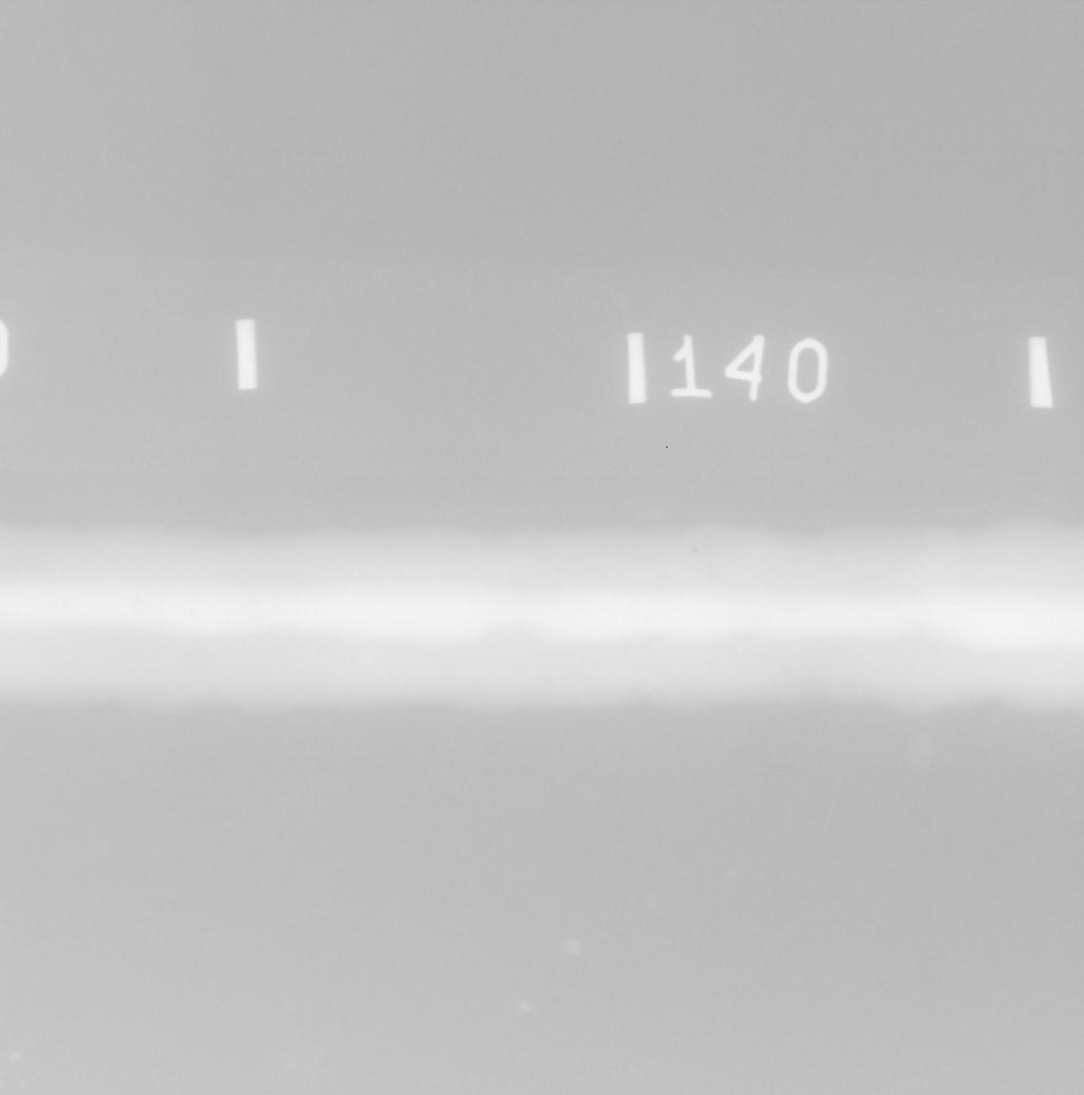Inclusion: (706, 559, 714, 568), (699, 552, 707, 558), (710, 575, 715, 579), (697, 568, 701, 572)
Pore/Porosity: (705, 532, 712, 540), (190, 609, 197, 616), (693, 545, 699, 553), (157, 611, 162, 616), (136, 609, 141, 613), (135, 596, 139, 601), (61, 598, 65, 601), (63, 604, 66, 606)
